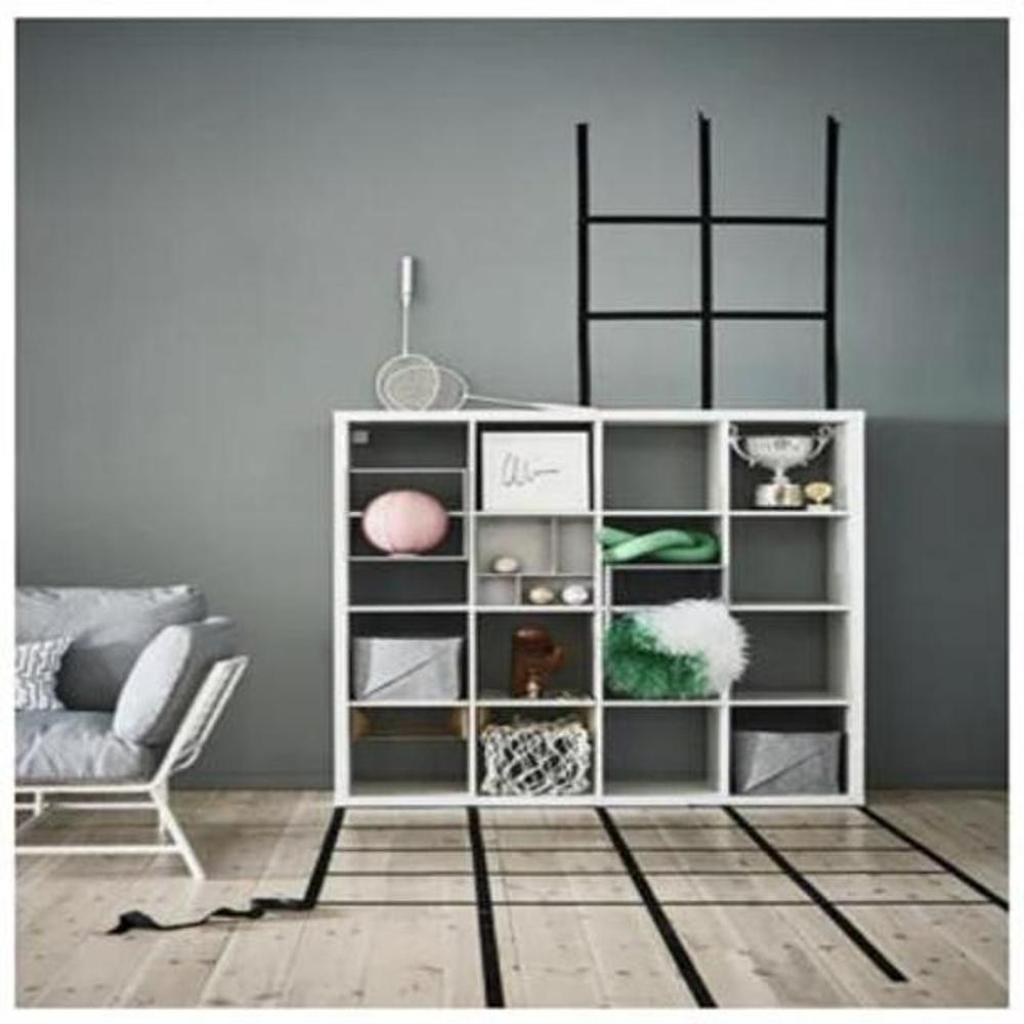lamp: (330, 406, 873, 813)
